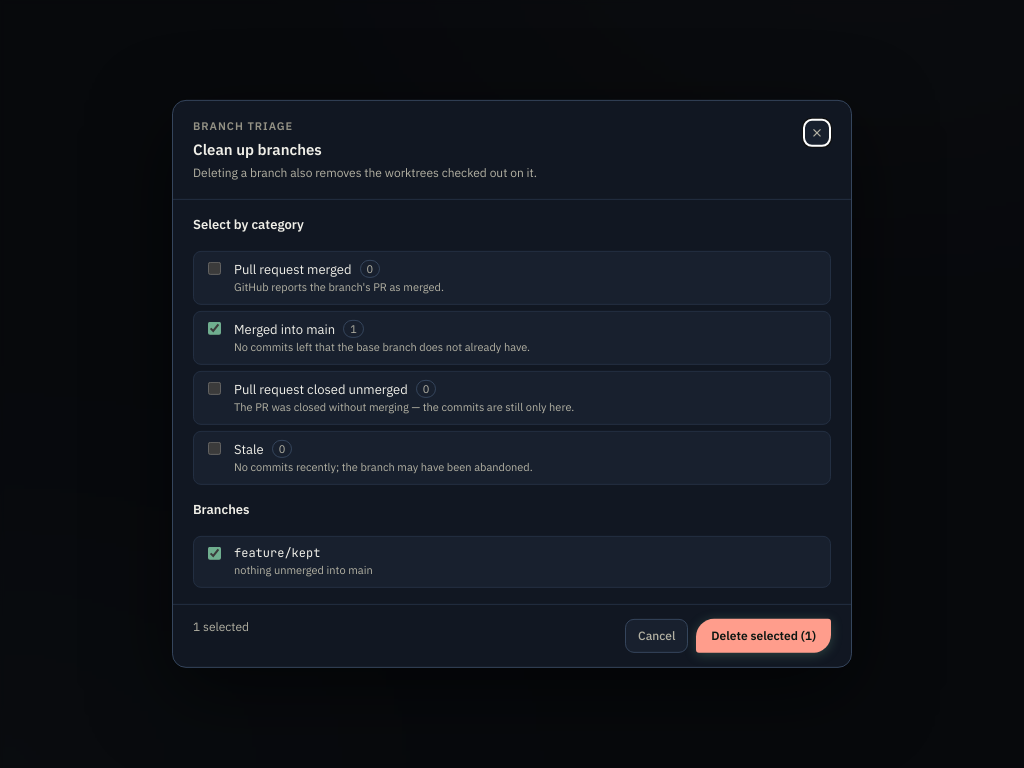
Scenario: a restored cleanup_failed 200 is amber, does not toast, and the heading drops the tail
What coordinates should you click on to do the following:
click the button "Delete selected (1)"
I would click on:
 (764, 636)
Its box is [696,619,831,653].
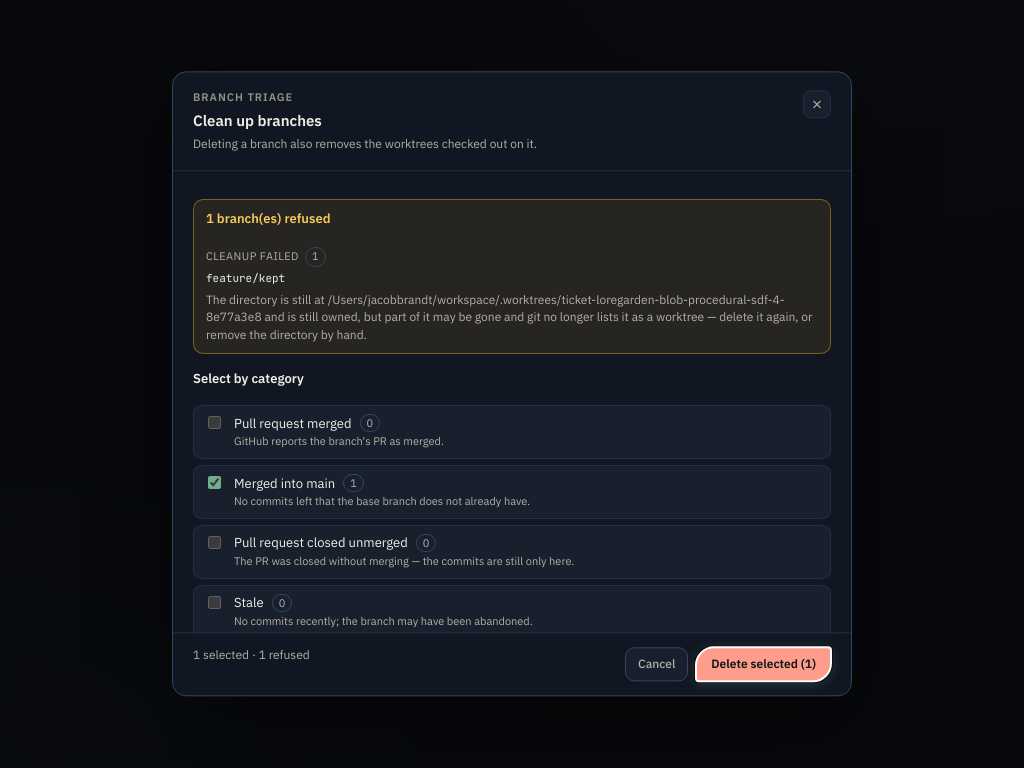
Expected: the message with class "branch-cleanup-refusals" is shown, [193,200,831,354]
Expected: the text with class "branch-cleanup-refusal-detail" shows "/Users/jacobbrandt/workspace/.worktrees/ticket-loregarden-blob-procedural-sdf-4-8e77a3e8", [206,292,812,342]
Expected: the text with class "modal-section-title" reads "1 branch(es) refused", [206,210,330,228]
